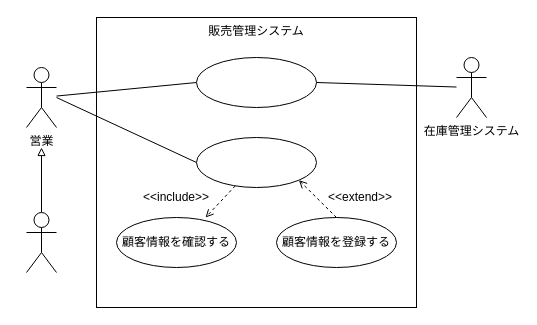
This 537x325 diagram has some shape labels left out. Each missing label, with the centre of its shape:
"受注内容を登録する" goes at (256,162).
"営業部長" goes at (41,242).
"在庫を管理する" goes at (256,82).
